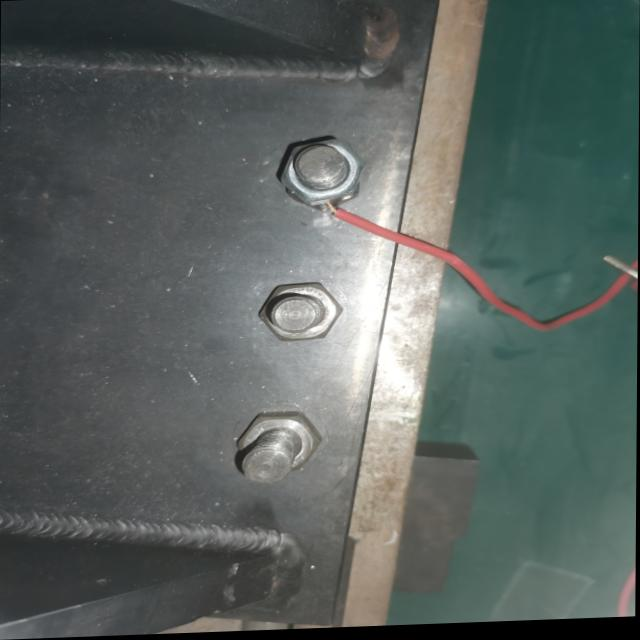Regular bolt: (281, 140, 365, 210), (237, 414, 323, 482), (260, 284, 344, 345)
